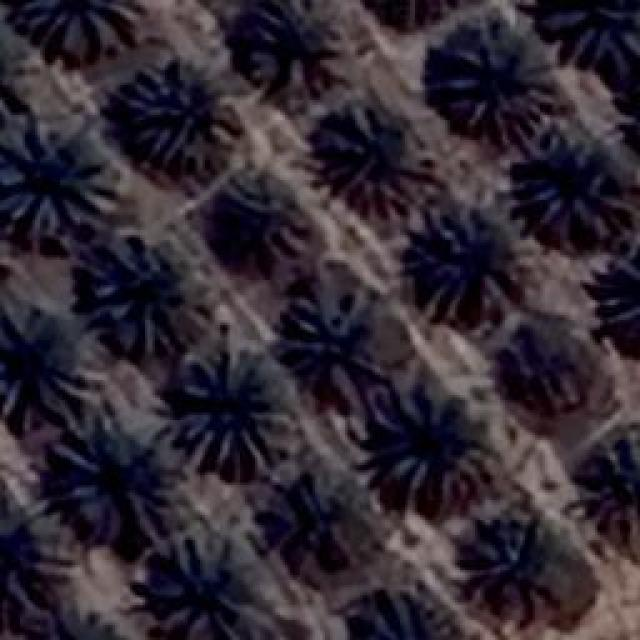PalmTree: (90, 227, 212, 355), (407, 202, 535, 322), (172, 350, 290, 480), (120, 52, 245, 170), (435, 25, 563, 140), (375, 380, 495, 498), (0, 128, 125, 238), (59, 418, 162, 540), (328, 98, 430, 220), (208, 164, 310, 284), (465, 512, 575, 622), (514, 127, 628, 230), (276, 462, 382, 568), (150, 530, 248, 638), (0, 310, 92, 425), (512, 312, 606, 422), (284, 290, 378, 395), (242, 2, 340, 100), (0, 481, 60, 629), (330, 575, 452, 640), (17, 0, 142, 60), (587, 423, 640, 541), (552, 0, 638, 65), (592, 246, 640, 355), (362, 0, 475, 38), (0, 34, 35, 124), (31, 608, 124, 640)
